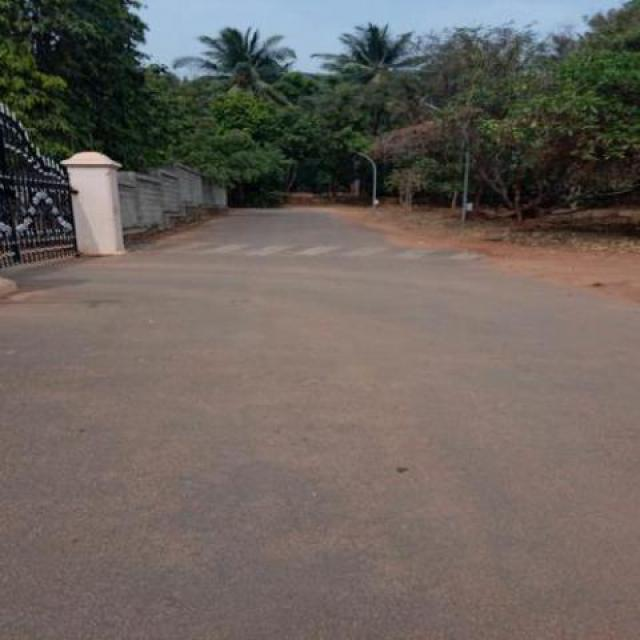Speed Bump: (133, 239, 490, 262)
